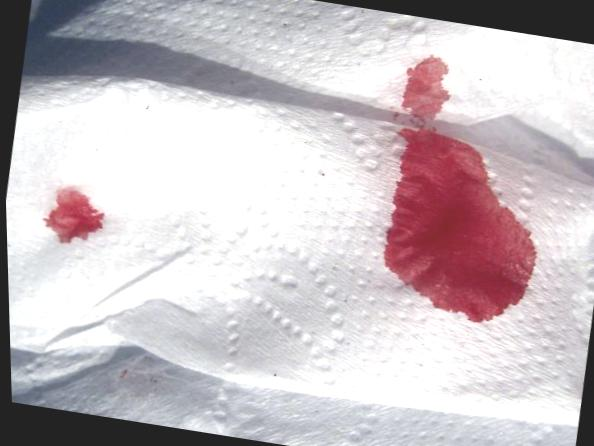Fire: (384, 125, 535, 321), (41, 188, 101, 242), (401, 55, 449, 119)
